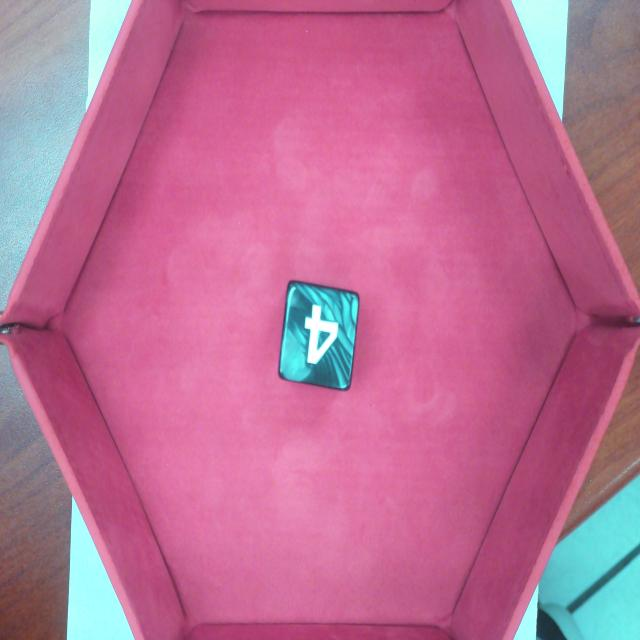dice: (280, 280, 360, 393)
